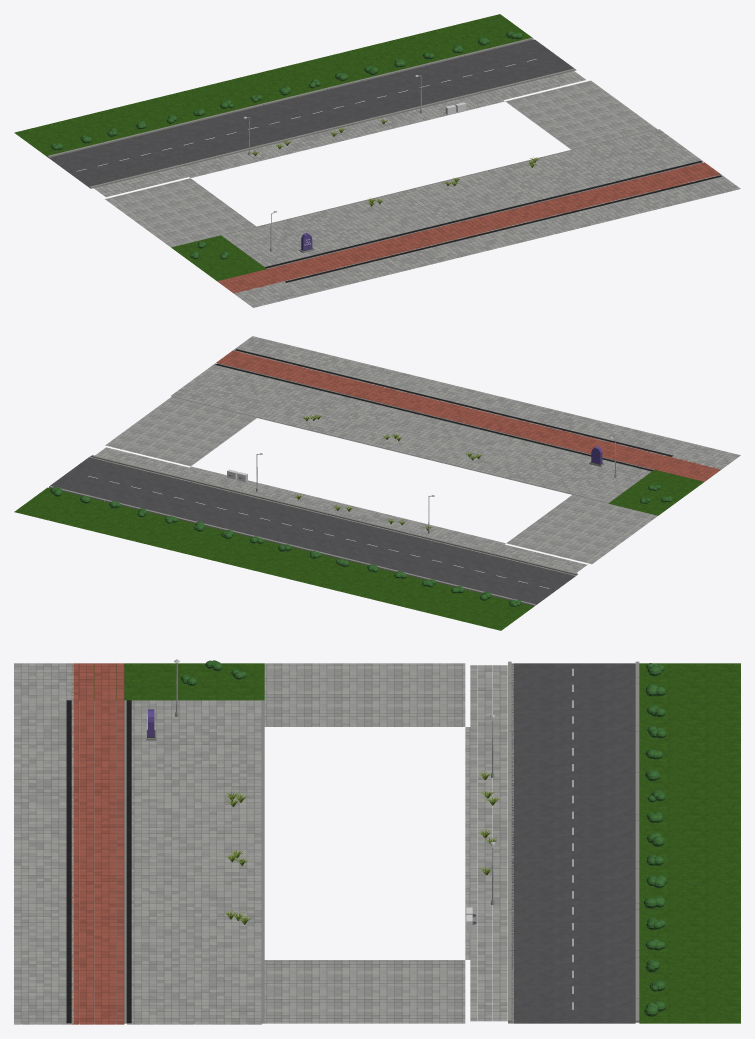
Rendered from Library_Medical_Site_HD2.glb.
The picture shows the model from 3 angles, top to bottom: view 1: azimuth 30°, elevation 25°; view 2: azimuth 150°, elevation 25°; view 3: azimuth 270°, elevation 25°; orthographic projection. The views are drawn at different scales.
Visible parts, largest first — view 1: LM_Ground, LM_Props; view 2: LM_Ground, LM_Props; view 3: LM_Ground, LM_Props.
Part boxes in pixels (box(x1,y1,x2,y2)): LM_Ground: box(14, 14, 740, 307); LM_Props: box(51, 31, 538, 259); LM_Ground: box(14, 336, 740, 630); LM_Props: box(50, 413, 672, 607); LM_Ground: box(14, 661, 740, 1024); LM_Props: box(146, 659, 667, 1016).
Bounding box in the file's own units: 136 × 10.65 × 116.
Materials: 17 (7 with a texture image).
